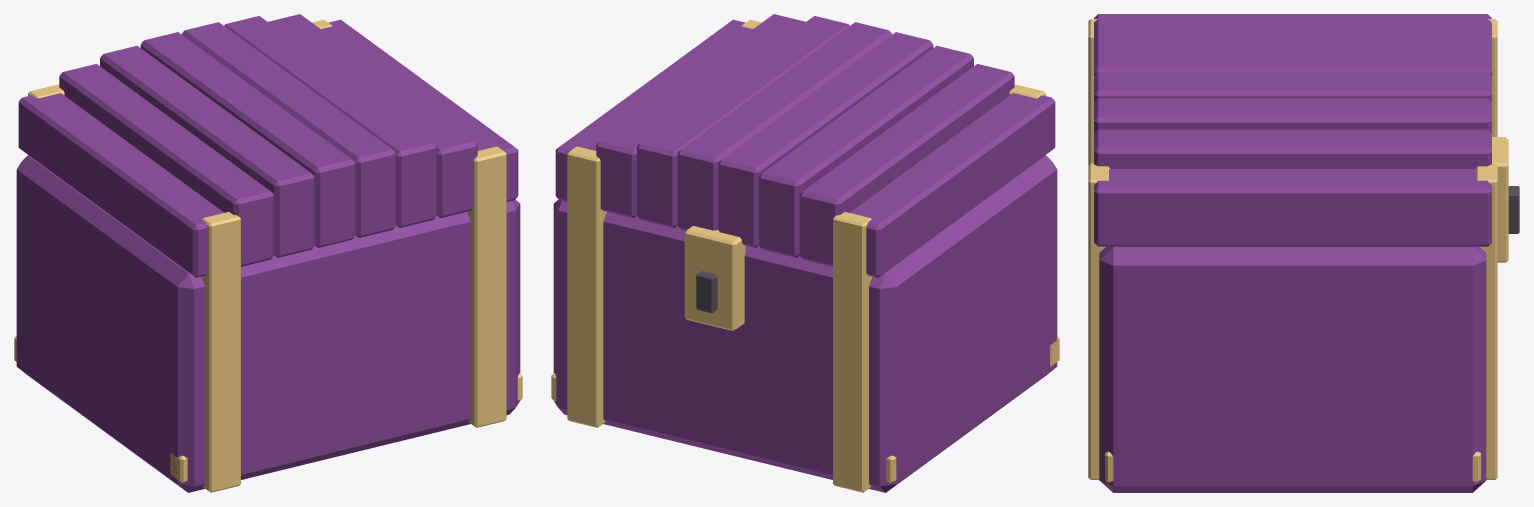
File: ornate_crypt_chest.glb
3 renders of one model, left to right at view 1: azimuth 30°, elevation 25°; view 2: azimuth 150°, elevation 25°; view 3: azimuth 270°, elevation 25°, orthographic. The views are drawn at different scales.
Bounding box in the file's own units: 0.8 × 0.669 × 0.78.
